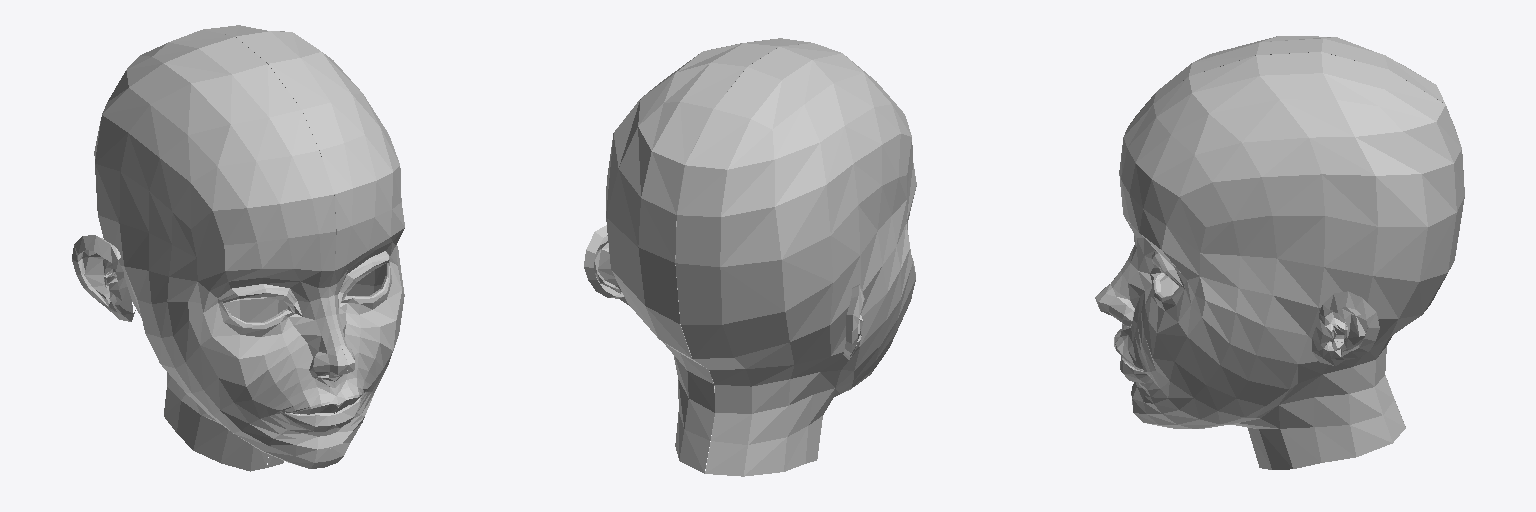
File: bolvanka.obj
The picture shows the model from 3 angles: view 1: azimuth 30°, elevation 25°; view 2: azimuth 150°, elevation 25°; view 3: azimuth 270°, elevation 25°; orthographic projection.
Parts seen in each view (by area): view 1: QuadPatch10, QuadPatch09, QuadPatch02; view 2: QuadPatch10, QuadPatch09, QuadPatch11, QuadPatch02; view 3: QuadPatch09, QuadPatch10, QuadPatch11.
Part boxes in pixels (x1,y1,x2,y2): QuadPatch10: (94, 30, 348, 471); QuadPatch09: (203, 25, 404, 467); QuadPatch02: (72, 235, 135, 321); QuadPatch10: (675, 43, 916, 476); QuadPatch09: (606, 38, 810, 473); QuadPatch11: (584, 225, 629, 305); QuadPatch02: (843, 284, 864, 359); QuadPatch09: (1095, 52, 1464, 469); QuadPatch10: (1100, 36, 1463, 426); QuadPatch11: (1312, 291, 1379, 365).
Size of the model in its own units: 35.65 by 51.67 by 42.43.